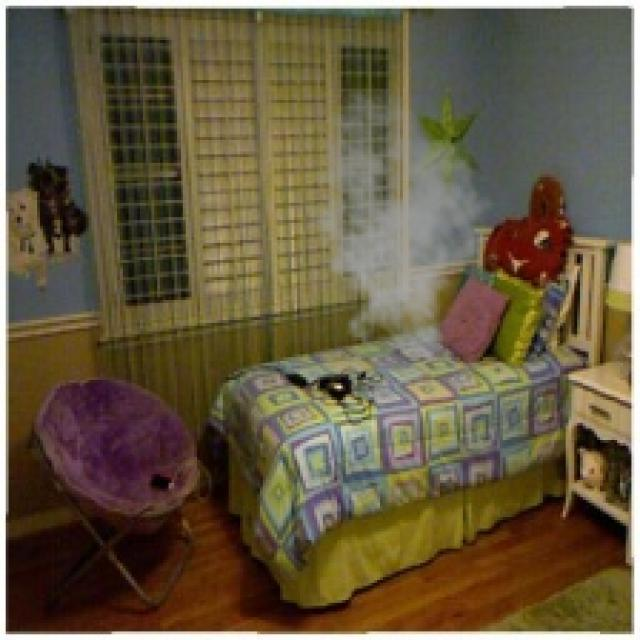smoke: (294, 86, 494, 363)
